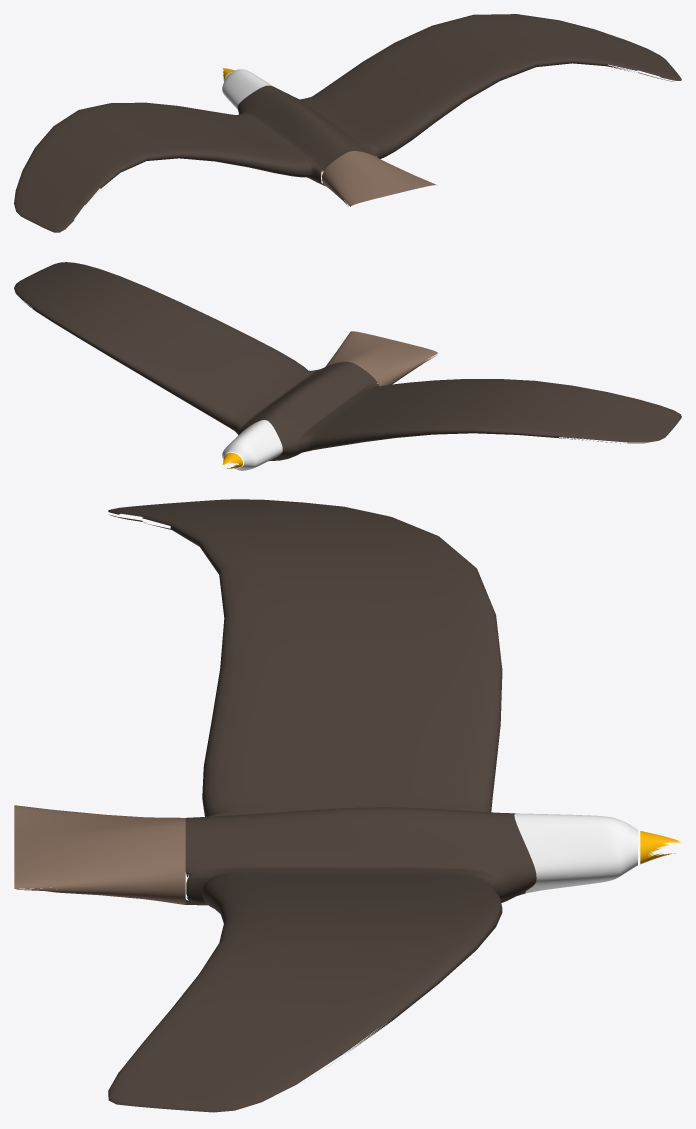
The model's file is eagle.glb.
3 views of the same model, one above another, from view 1: azimuth 30°, elevation 25°; view 2: azimuth 150°, elevation 25°; view 3: azimuth 270°, elevation 25° (orthographic). The views are drawn at different scales.
Visible parts, largest first — view 1: Cylinder001; view 2: Cylinder001; view 3: Cylinder001.
Boxes of the visible parts, x1,y1,x2,y2 form: Cylinder001: (14, 14, 681, 232); Cylinder001: (14, 262, 681, 470); Cylinder001: (14, 499, 680, 1112).
Bounding box in the file's own units: 260 × 32.16 × 120.
